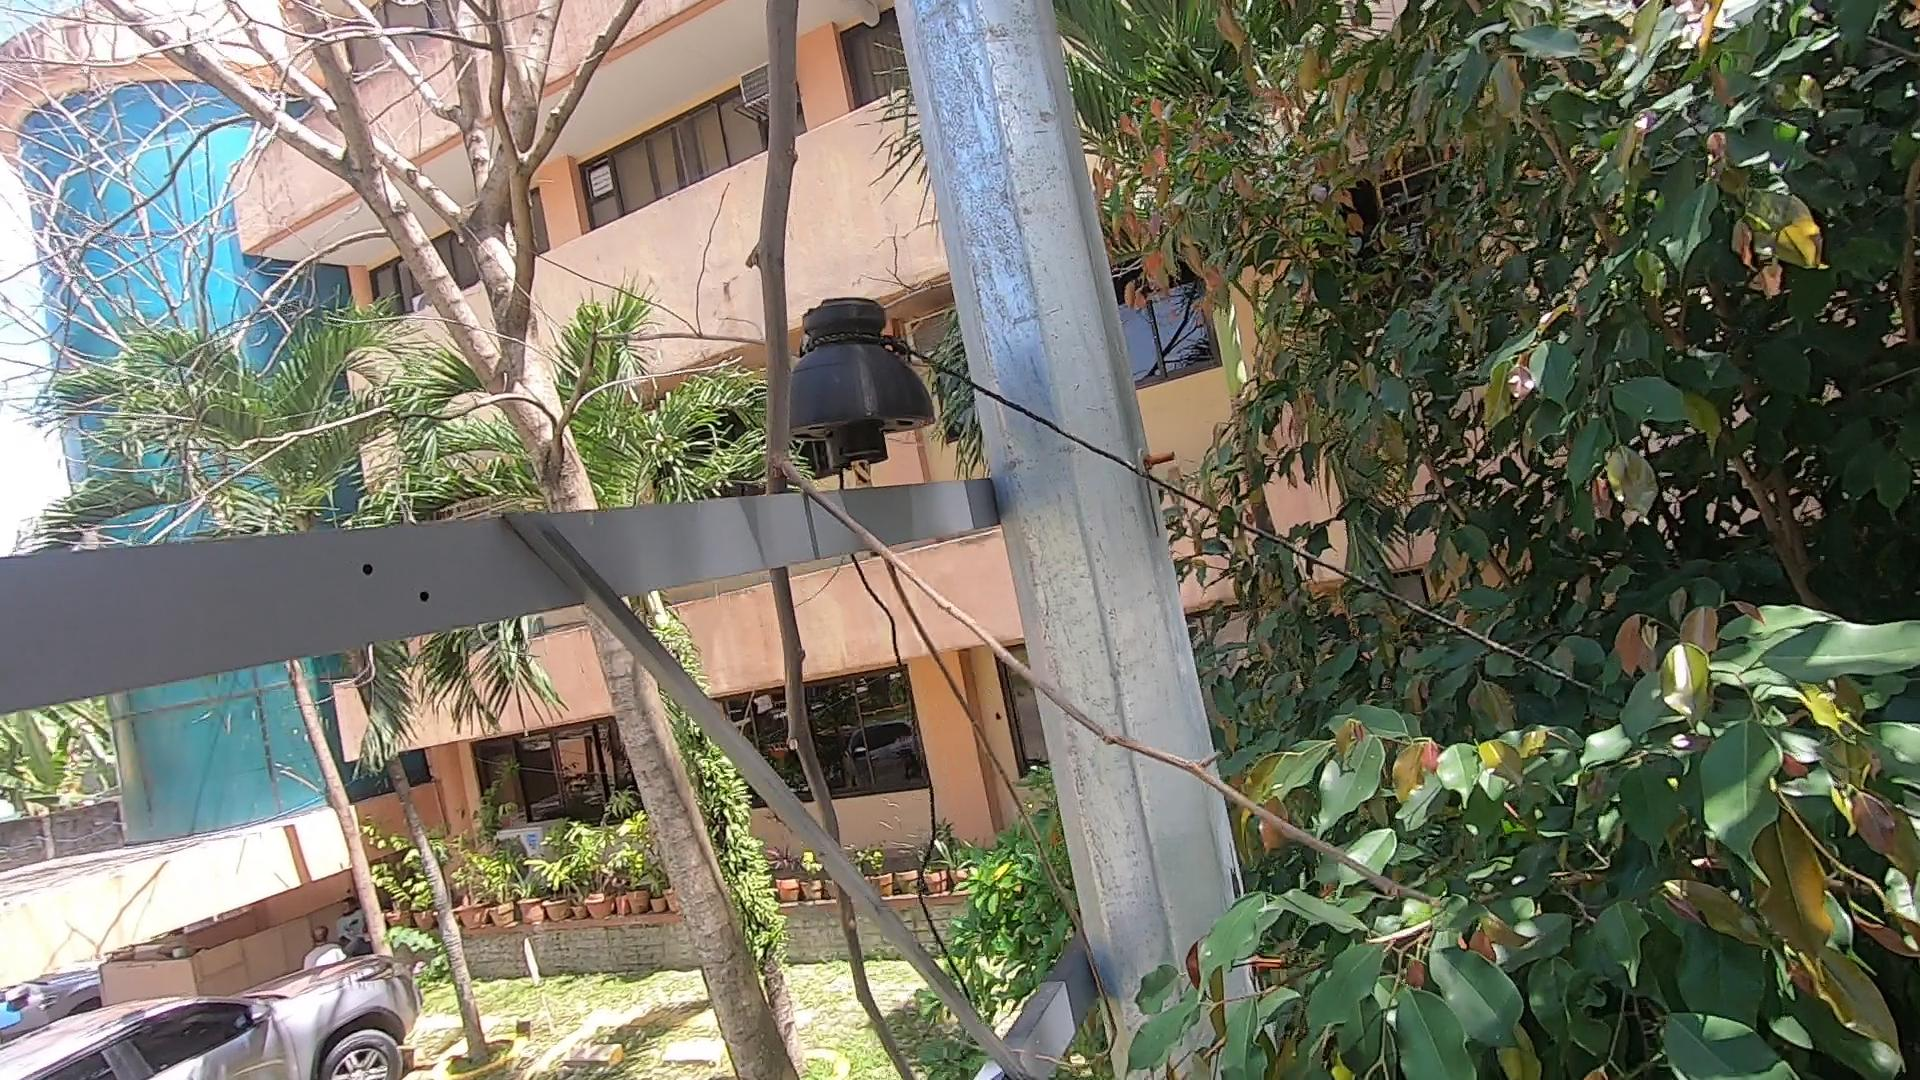tree branch: (702, 7, 1451, 1073)
